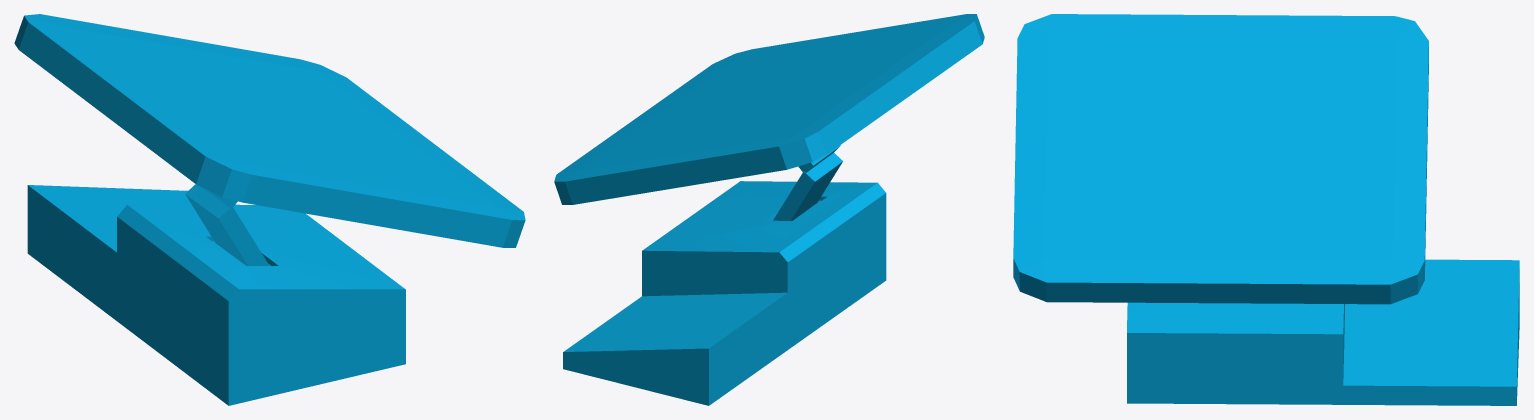
The model's file is Cash_Register_Lod1.fbx.
3 renders of one model, left to right at view 1: azimuth 30°, elevation 25°; view 2: azimuth 150°, elevation 25°; view 3: azimuth 270°, elevation 25°, orthographic. The views are drawn at different scales.
Visible parts, largest first — view 1: Cash_Register_Lod1; view 2: Cash_Register_Lod1; view 3: Cash_Register_Lod1.
Part boxes in pixels (x1=…): Cash_Register_Lod1: x1=14, y1=14, x2=525, y2=405; Cash_Register_Lod1: x1=554, y1=14, x2=984, y2=405; Cash_Register_Lod1: x1=1013, y1=14, x2=1519, y2=405.
Bounding box in the file's own units: 31.45 × 26.91 × 44.27.
